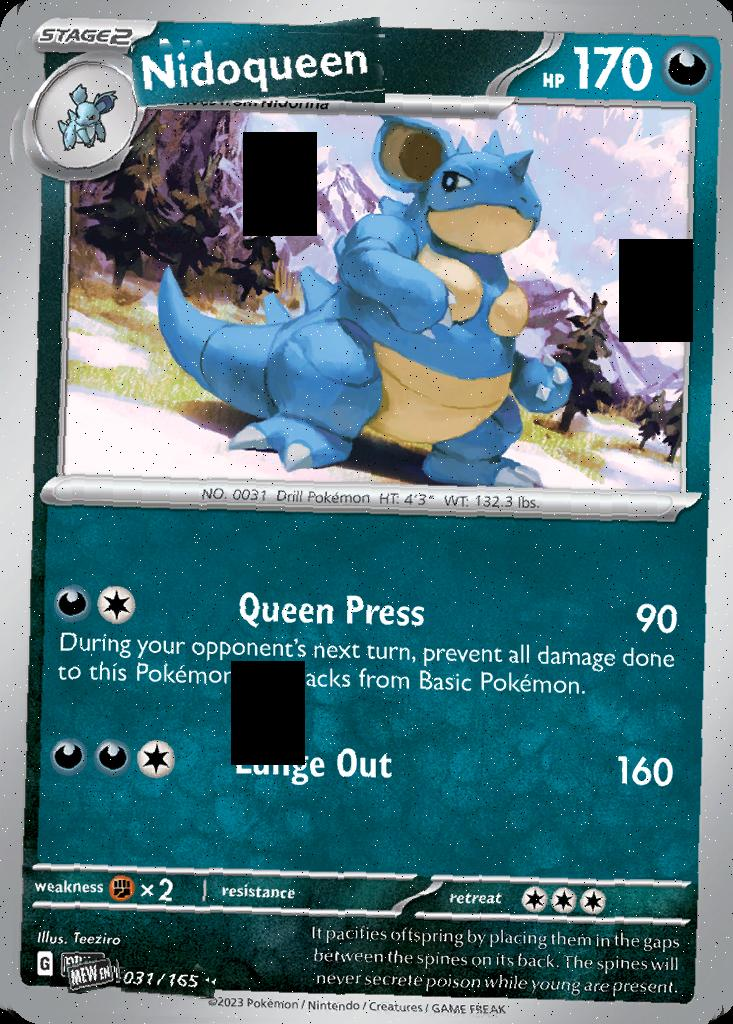card: (0, 0, 733, 1024)
hp: (512, 21, 706, 110)
name: (133, 27, 386, 103)
set num: (119, 962, 209, 1001)
set symbol: (66, 958, 117, 993)
